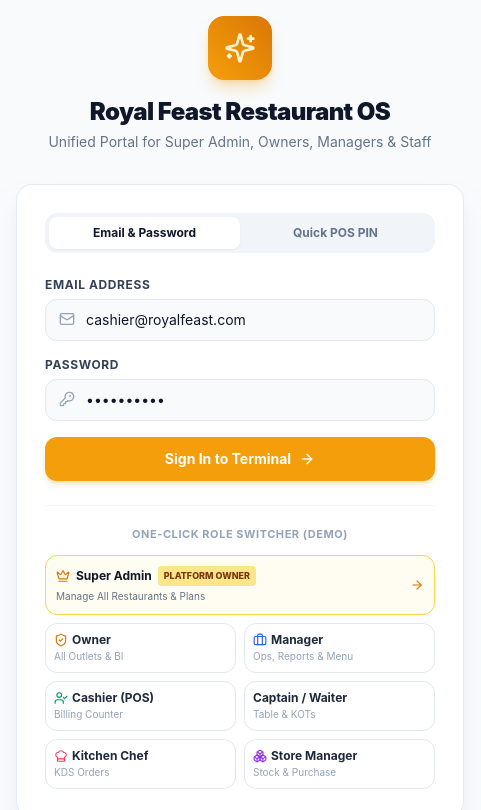
Test case: LoginPage Component › switches between Email/Password and PIN tab modes
The width and height of the screenshot is (481, 810).
Check: the field with placeholder "name@restaurant.com" is shown, box [45,299,435,341]
// Click PIN tab
Click the button "Quick POS PIN". click: point(336, 233)
box: [240,217,431,249]
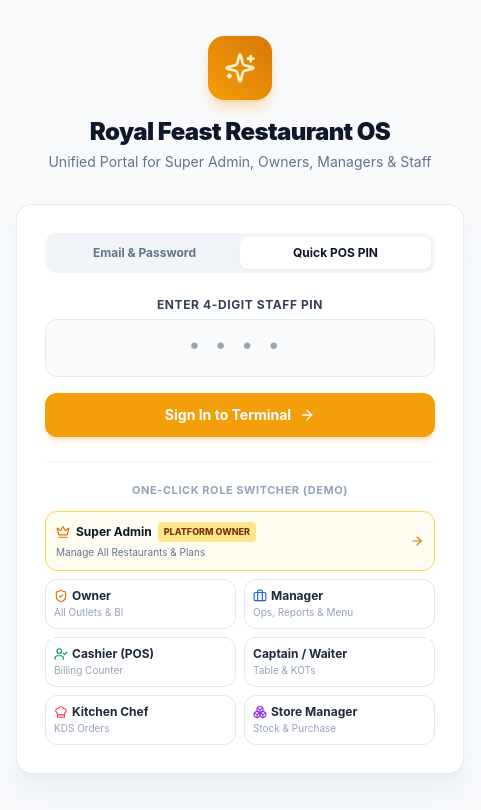
Check: the password field with placeholder "••••" is shown, box [45,319,435,377]
